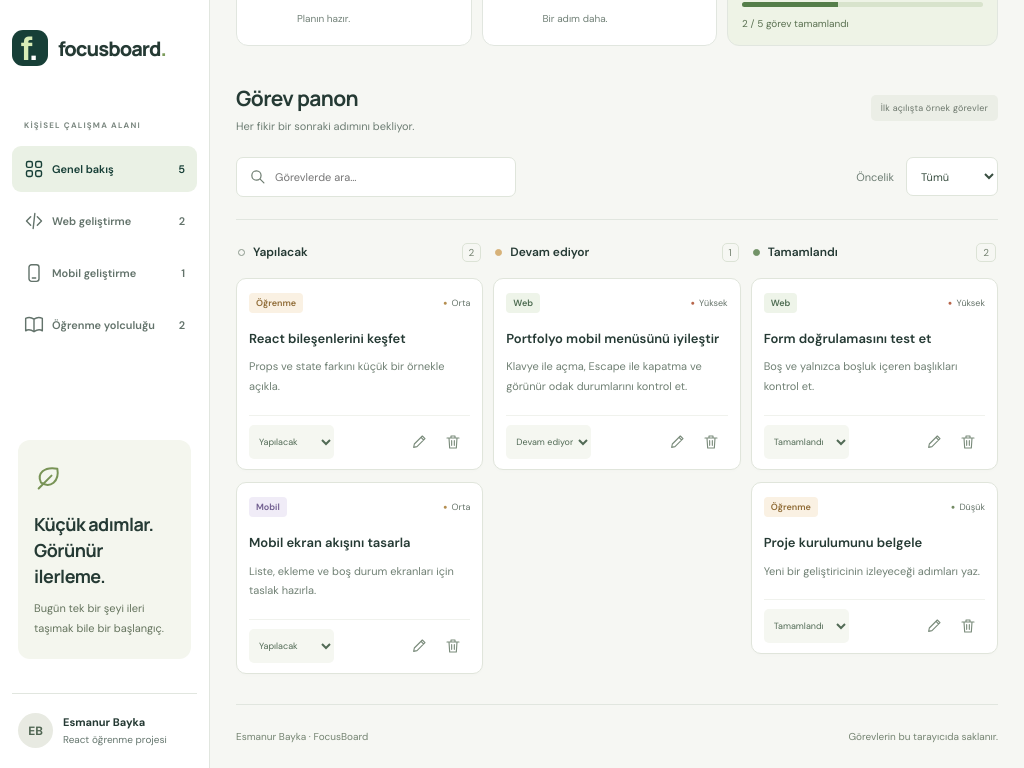
task board user journeys › deletes a task and restores it with undo
(page scrolled)
Click the button named "React bileşenlerini keşfet görevini sil": x=453, y=442 [436,425,470,459]
(page scrolled)
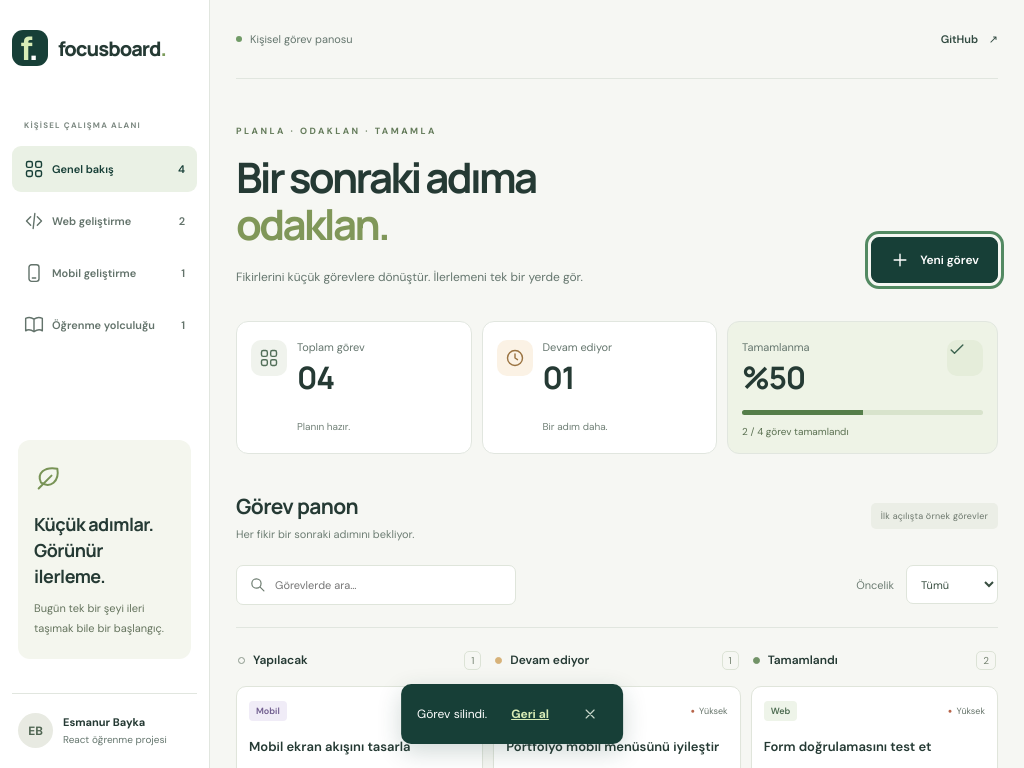
Now the heading "React bileşenlerini keşfet" is gone
Click the button "Geri al": x=530, y=714 [503,696,557,732]
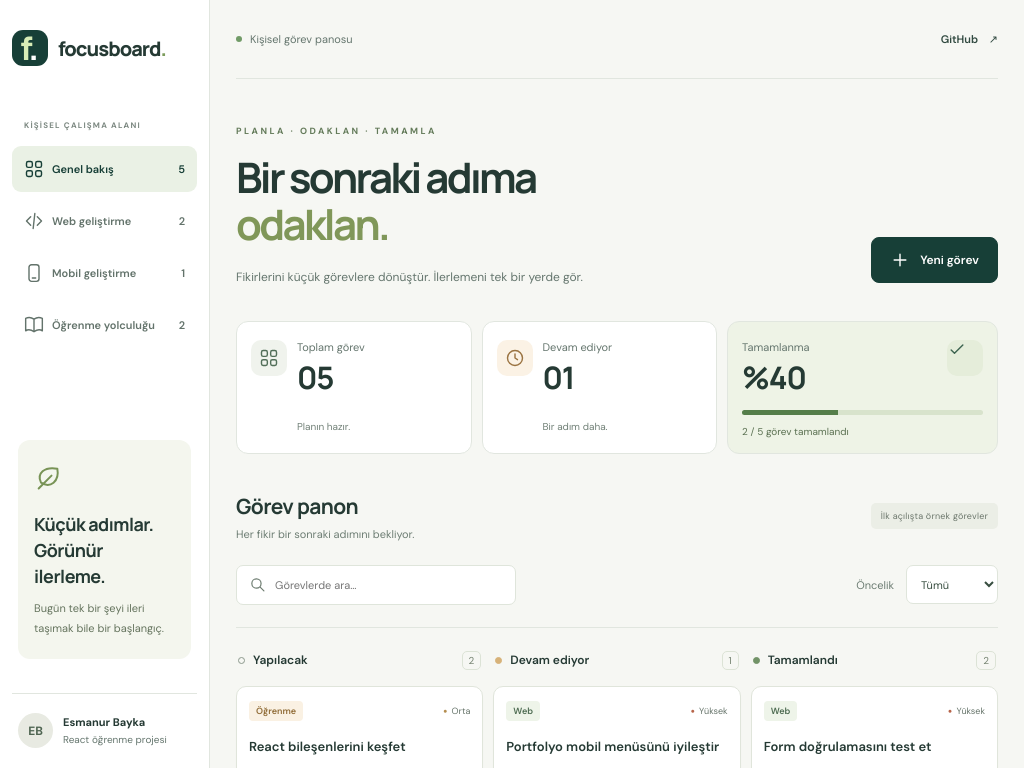
Now the heading "React bileşenlerini keşfet" is shown, box [249,738,406,754]
